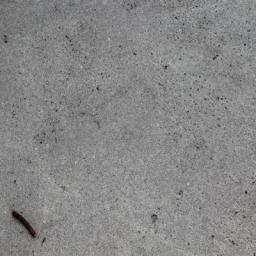FOD: (10, 209, 41, 241)
